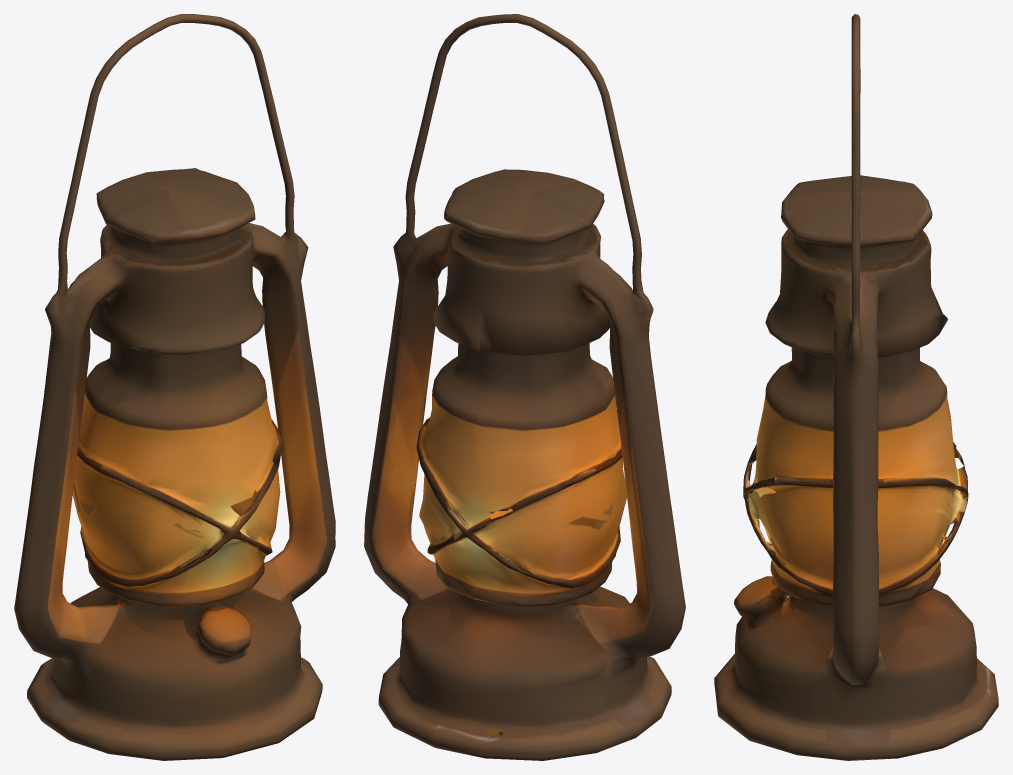
The model's file is Lampara.glb.
3 views of the same model, side by side, from view 1: azimuth 30°, elevation 25°; view 2: azimuth 150°, elevation 25°; view 3: azimuth 270°, elevation 25° (orthographic).
Bounding box in the file's own units: 0.9325 × 1.91 × 0.7264.
1 material, 1 textured.
